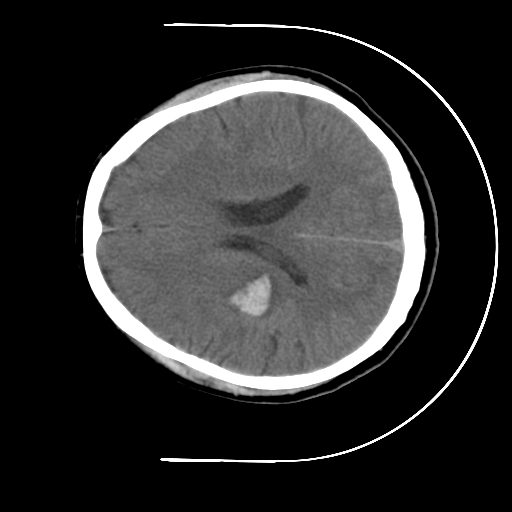a: (215, 265, 285, 327)
